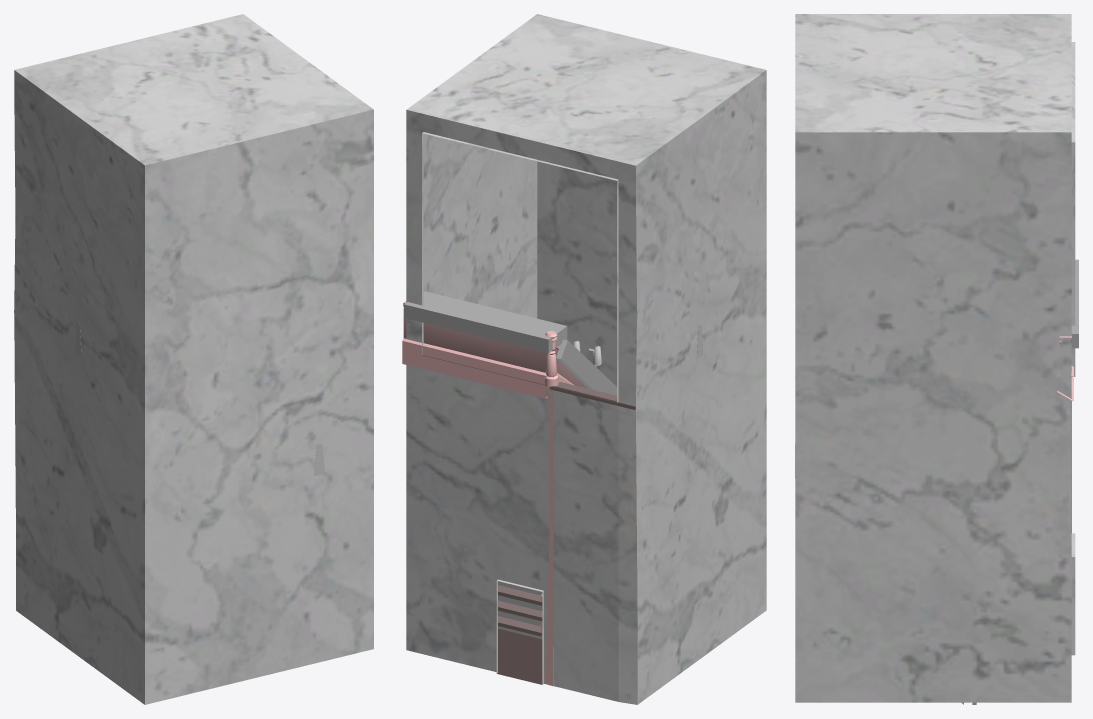
The model's file is ManorStairTile.fbx.
3 renders of one model, left to right at view 1: azimuth 30°, elevation 25°; view 2: azimuth 150°, elevation 25°; view 3: azimuth 270°, elevation 25°, orthographic. The views are drawn at different scales.
Parts seen in each view (by area): view 1: ManorStairTile; view 2: ManorStairTile, Cube_1, Cube__1__1; view 3: ManorStairTile, Cube_1.
Part boxes in pixels (x1,y1,x2,y2): ManorStairTile: [14, 14, 373, 704]; ManorStairTile: [402, 14, 766, 704]; Cube_1: [404, 291, 567, 353]; Cube__1__1: [556, 339, 616, 395]; ManorStairTile: [795, 14, 1075, 704]; Cube_1: [1071, 259, 1078, 348].
Size of the model in its own units: 811 by 1809 by 812.
